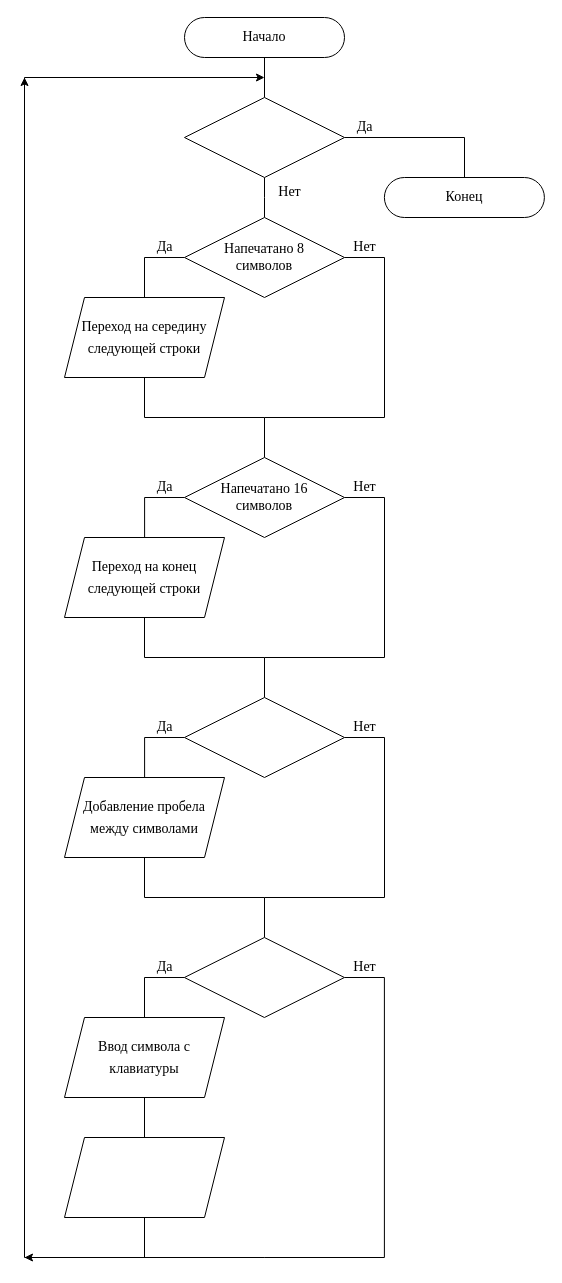
This 562x1283 diagram has some shape labels left out. Each missing label, with the centre of its shape:
Вывод символа на дисплей: pixel 144 1177
Напечатано больше 16 символов: pixel 264 737
Пользователь ввёл символ: pixel 263 977
Текст напечатан до конца: pixel 264 137
